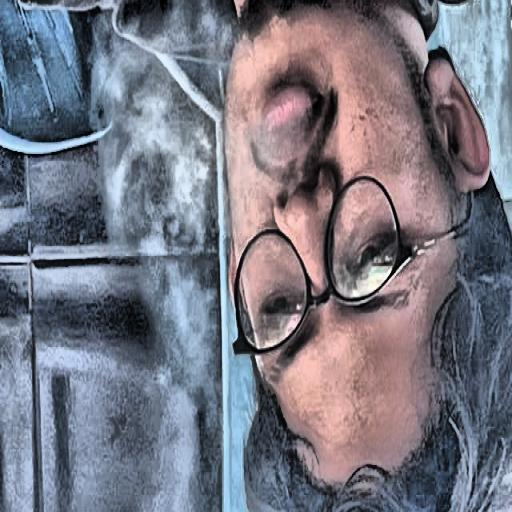Rokok: (11, 0, 512, 512)
